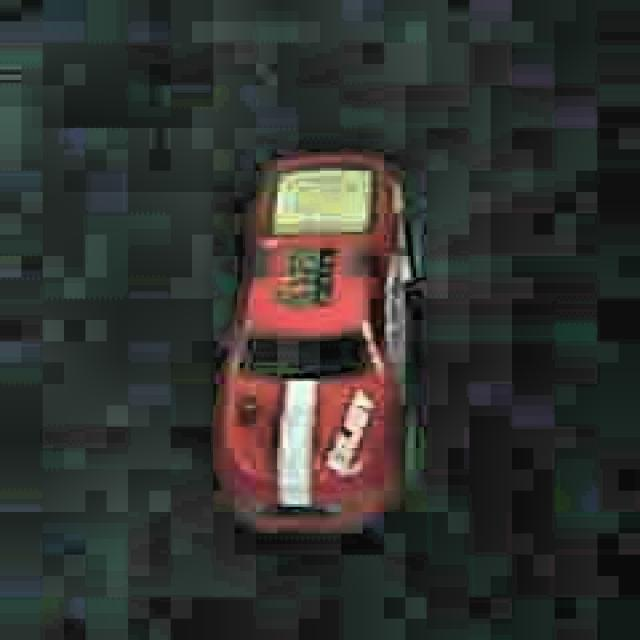car: (204, 140, 431, 546)
